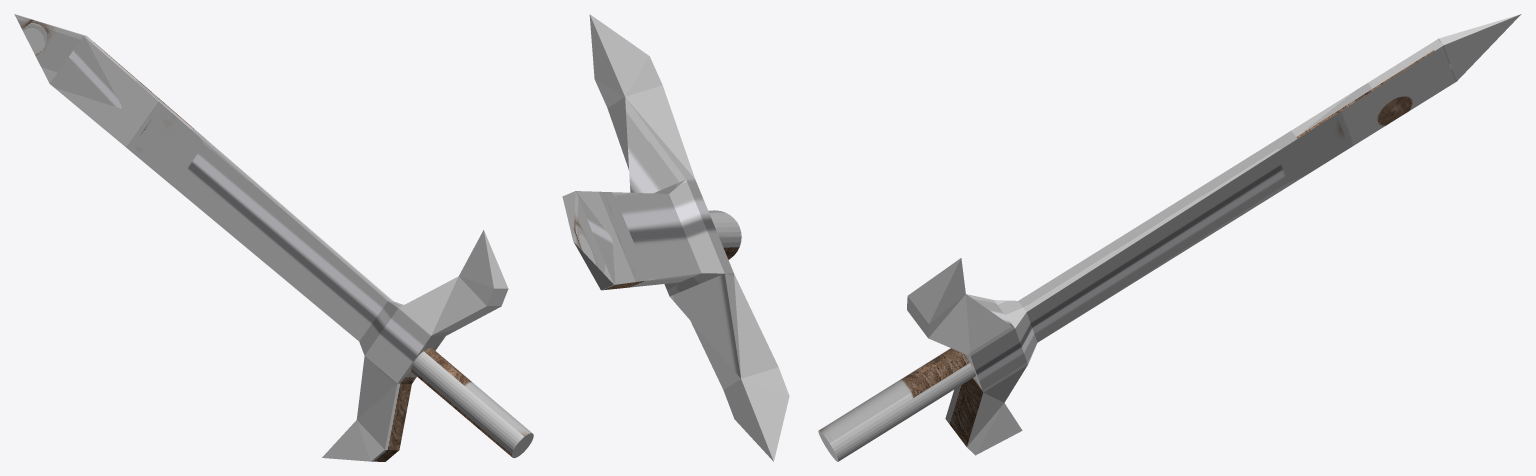
File: Protagonista127.obj
The picture shows the model from 3 angles, left to right: view 1: azimuth 30°, elevation 25°; view 2: azimuth 150°, elevation 25°; view 3: azimuth 270°, elevation 25°; orthographic projection. The views are drawn at different scales.
Visible parts, largest first — view 1: Cube; view 2: Cube; view 3: Cube.
Part boxes in pixels (x1,y1,x2,y2): Cube: [14, 14, 533, 461]; Cube: [562, 14, 789, 461]; Cube: [818, 14, 1521, 461].
Bounding box in the file's own units: 0.6889 × 0.8492 × 1.49.
Materials: 1 (1 with a texture image).
